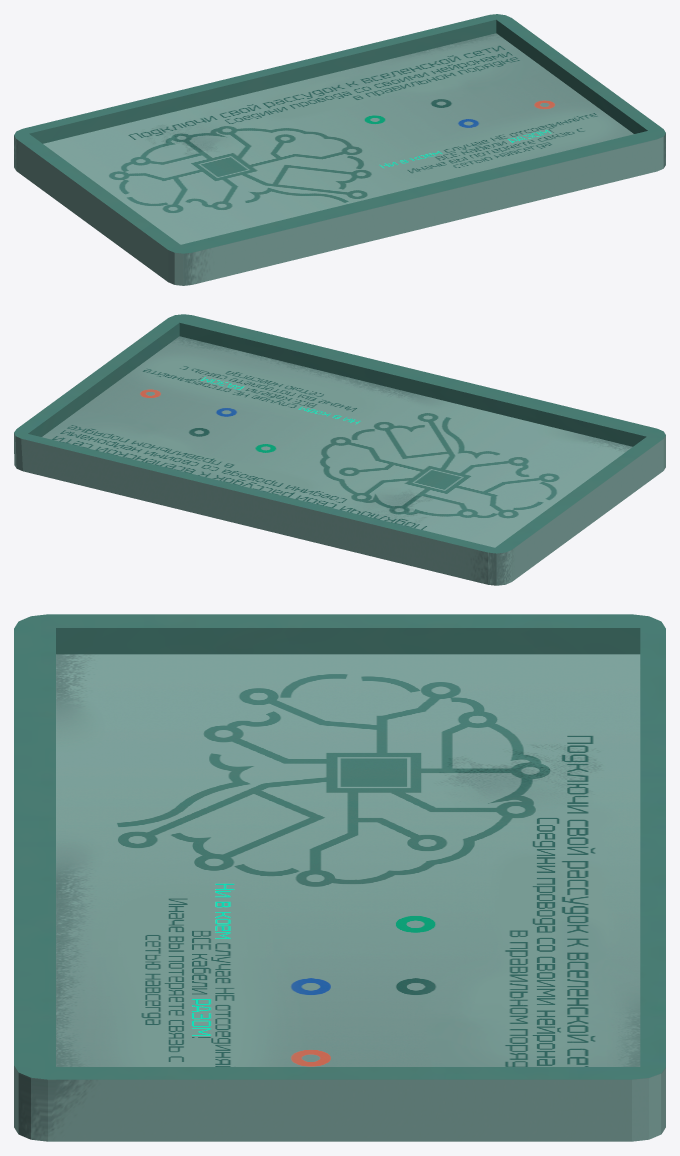
File: RUSConnect Your Mind .fbx
3 renders of one model, top to bottom at view 1: azimuth 30°, elevation 25°; view 2: azimuth 150°, elevation 25°; view 3: azimuth 270°, elevation 25°, orthographic. The views are drawn at different scales.
Visible parts, largest first — view 1: Connect Your Mind Mesh; view 2: Connect Your Mind Mesh; view 3: Connect Your Mind Mesh.
Part boxes in pixels (x1,y1,x2,y2): Connect Your Mind Mesh: (14,14,665,285); Connect Your Mind Mesh: (14,314,665,585); Connect Your Mind Mesh: (14,614,665,1141).
Bounding box in the file's own units: 188 × 11.72 × 112.
Materials: 1 (1 with a texture image).
